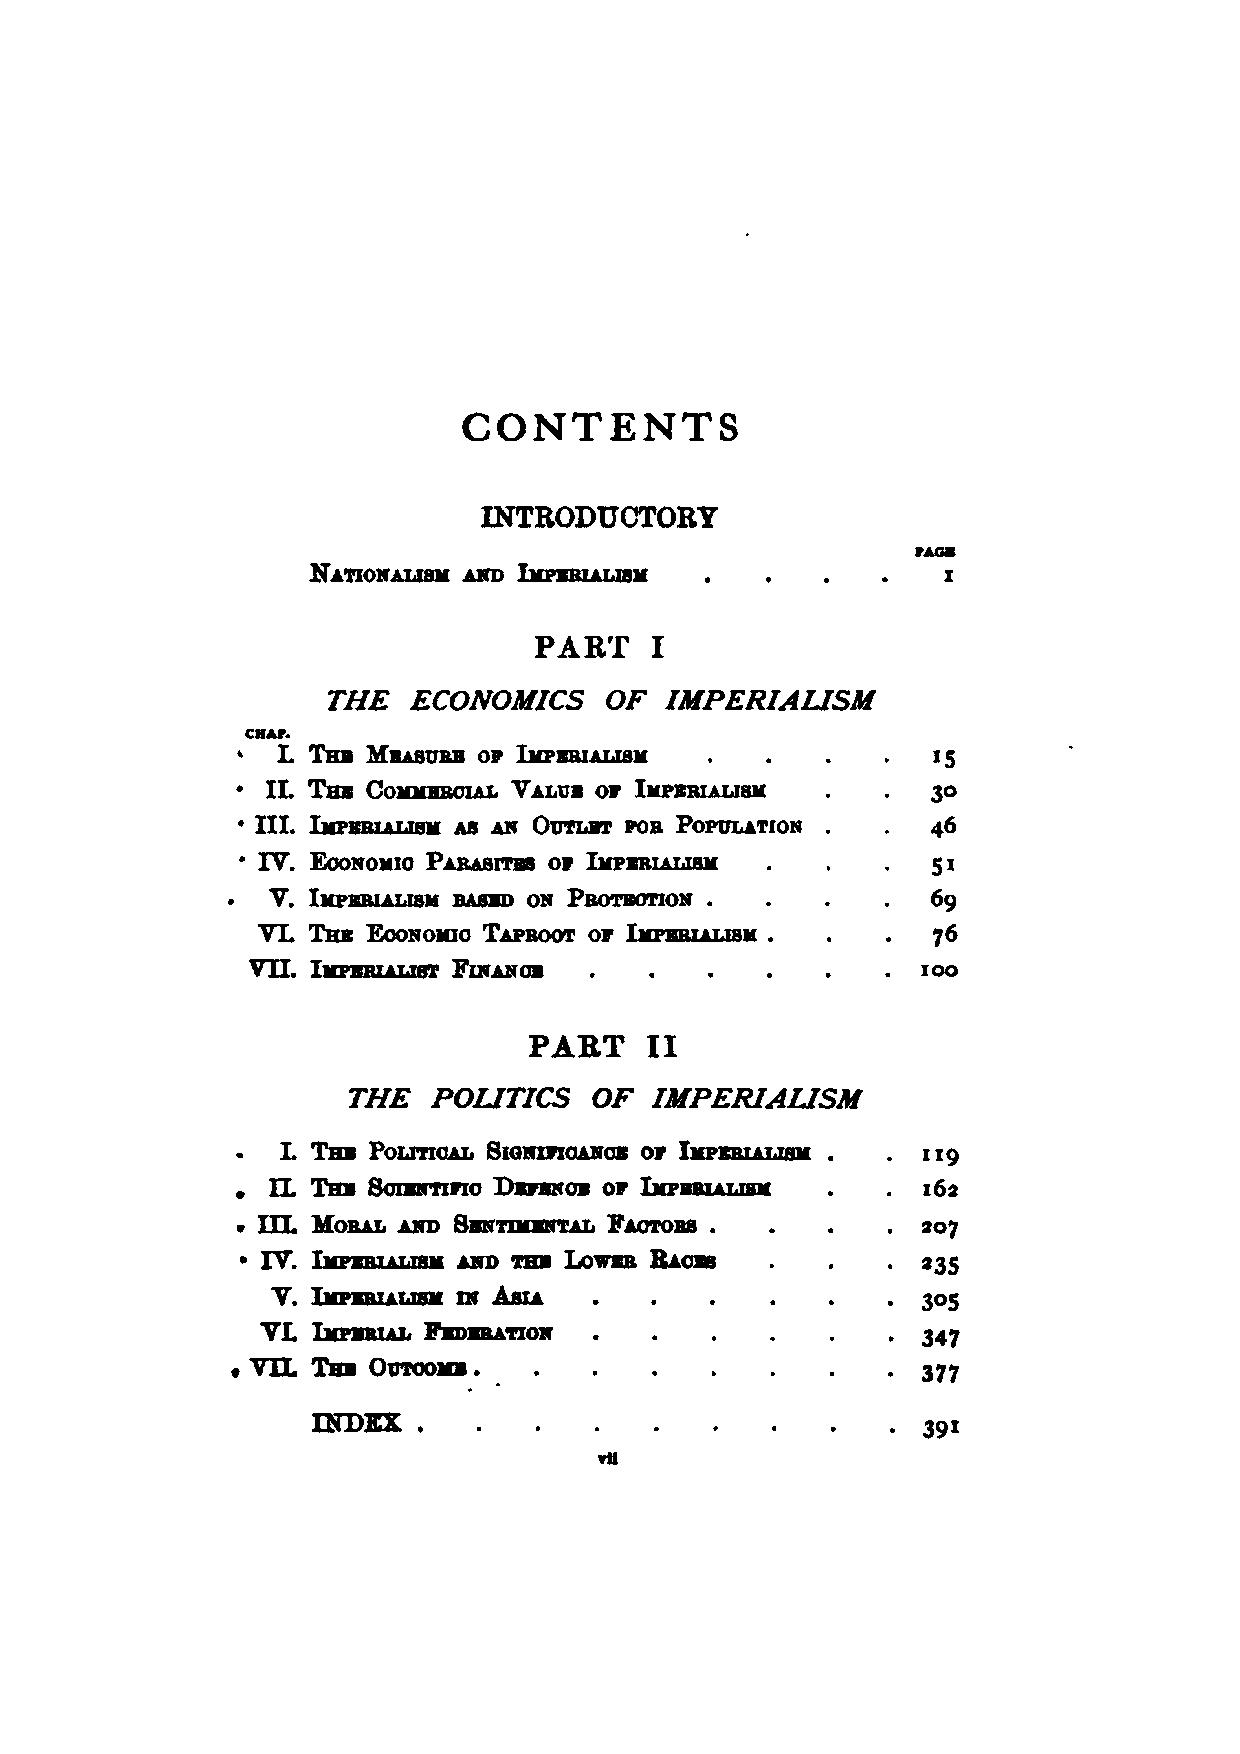TOC_chapter: (322, 631, 878, 717), (340, 1029, 862, 1113), (272, 1134, 821, 1165), (250, 811, 804, 837), (263, 774, 768, 803), (264, 1173, 772, 1200), (256, 847, 718, 875), (255, 1245, 717, 1274), (254, 919, 758, 943), (255, 1212, 703, 1239), (305, 556, 654, 586), (267, 884, 694, 909), (480, 495, 725, 535), (270, 742, 656, 766), (258, 1317, 556, 1345), (247, 956, 545, 982), (264, 1282, 546, 1306), (246, 1354, 478, 1380), (307, 1406, 408, 1435)
TOC_pagenumber: (922, 1249, 961, 1280), (919, 1290, 962, 1314), (919, 1143, 960, 1168), (922, 1416, 961, 1440), (919, 1326, 960, 1349), (918, 1219, 962, 1239), (921, 1176, 960, 1198), (921, 1362, 960, 1385), (929, 886, 957, 915), (919, 961, 960, 980), (930, 923, 960, 947), (931, 745, 957, 772), (930, 813, 955, 839), (931, 780, 955, 804), (930, 855, 954, 878), (943, 566, 954, 582)
chapter: (458, 411, 745, 443)
content_pagenumber: (592, 1449, 620, 1467)
